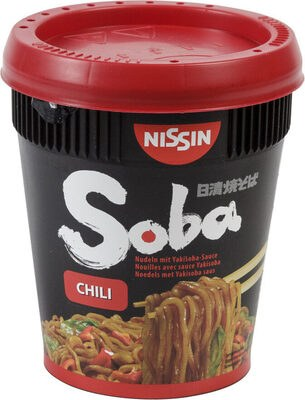Nudeln instant - Soba Chili mit Yakisoba-Sauce: (15, 20, 290, 380)
